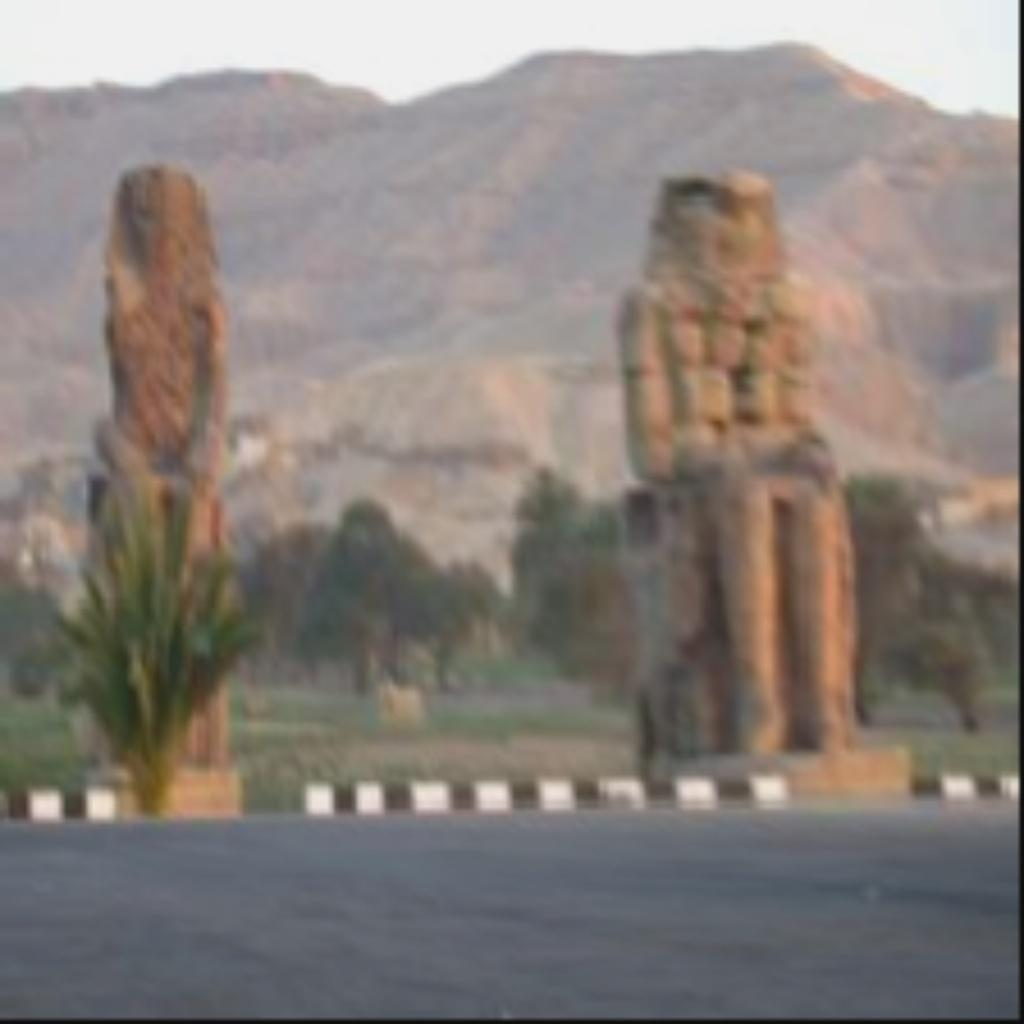Colossoi of Memnon: (590, 164, 900, 796), (59, 156, 256, 814)
